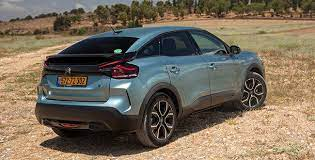licence: (56, 75, 89, 88)
